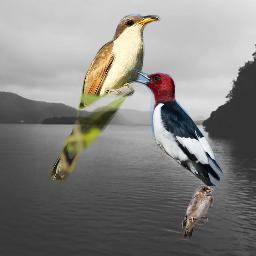Cuckoo: (47, 11, 161, 185)
Swallow: (180, 185, 214, 238)
Woodpecker: (128, 67, 226, 186)
